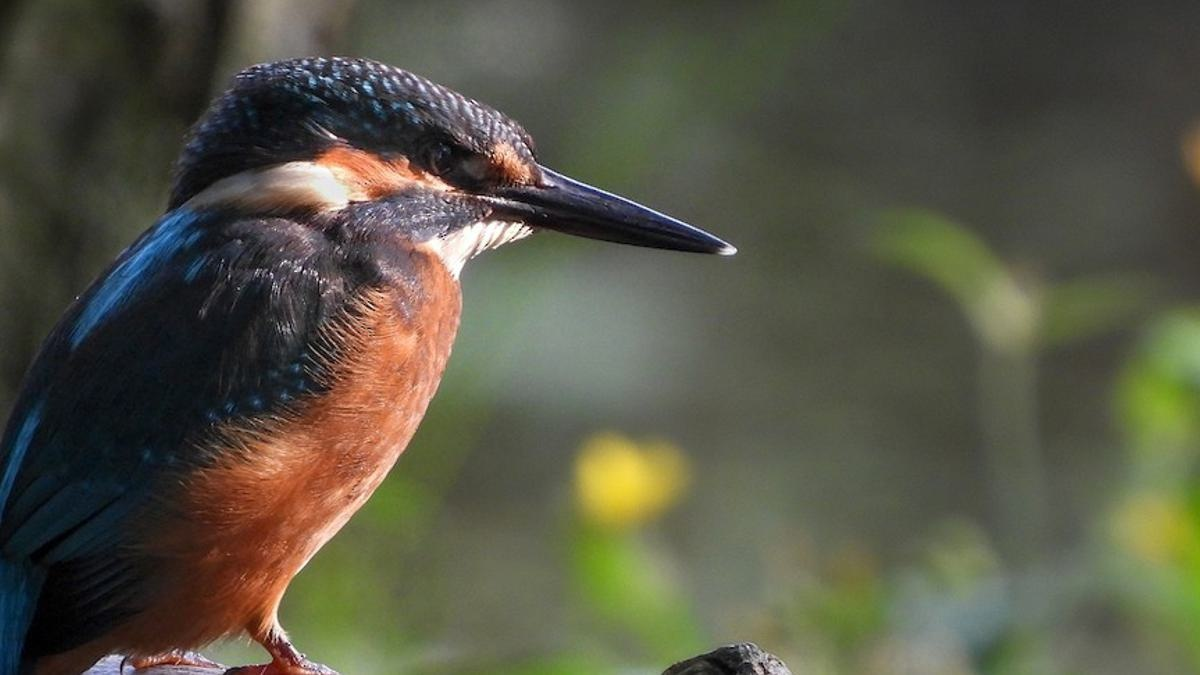kingfisher: (17, 56, 758, 675)
